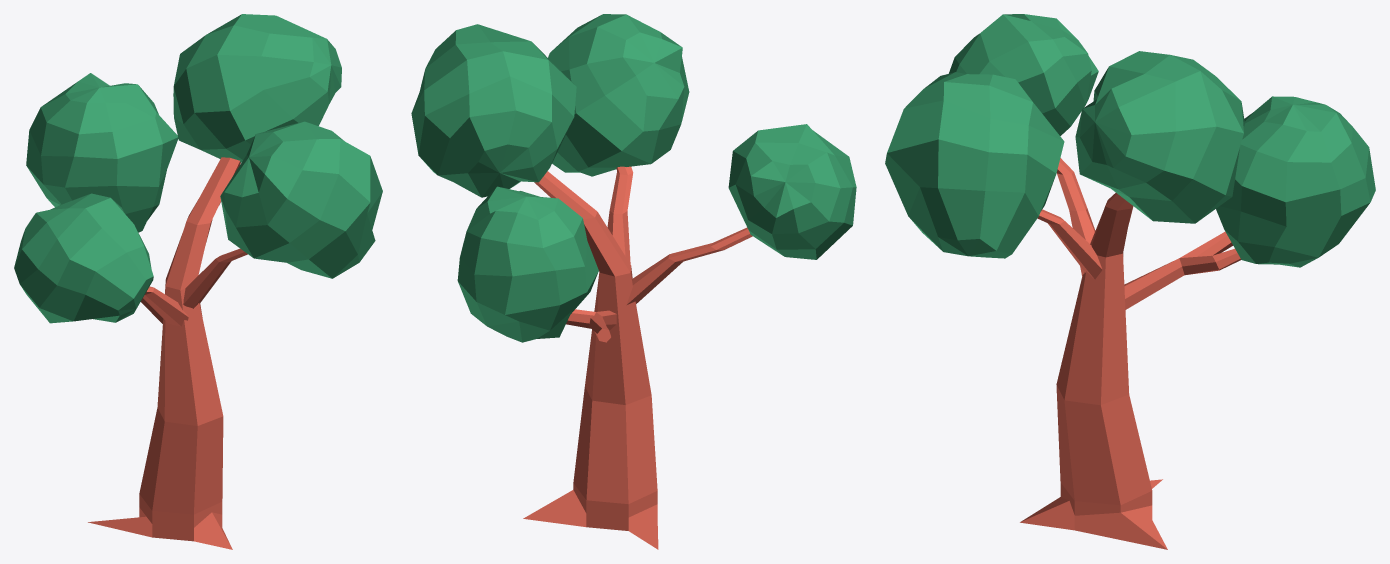
File: Tree6_summer.FBX
3 views of the same model, side by side, from view 1: azimuth 30°, elevation 25°; view 2: azimuth 150°, elevation 25°; view 3: azimuth 270°, elevation 25° (orthographic). The views are drawn at different scales.
Visible parts, largest first — view 1: Tree 3 autumn.002; view 2: Tree 3 autumn.002; view 3: Tree 3 autumn.002.
Boxes of the visible parts, bbox=[...] form: Tree 3 autumn.002: bbox=[14, 14, 382, 549]; Tree 3 autumn.002: bbox=[411, 14, 856, 549]; Tree 3 autumn.002: bbox=[885, 14, 1375, 549].
Size of the model in its own units: 5.58 by 6.72 by 5.92.
